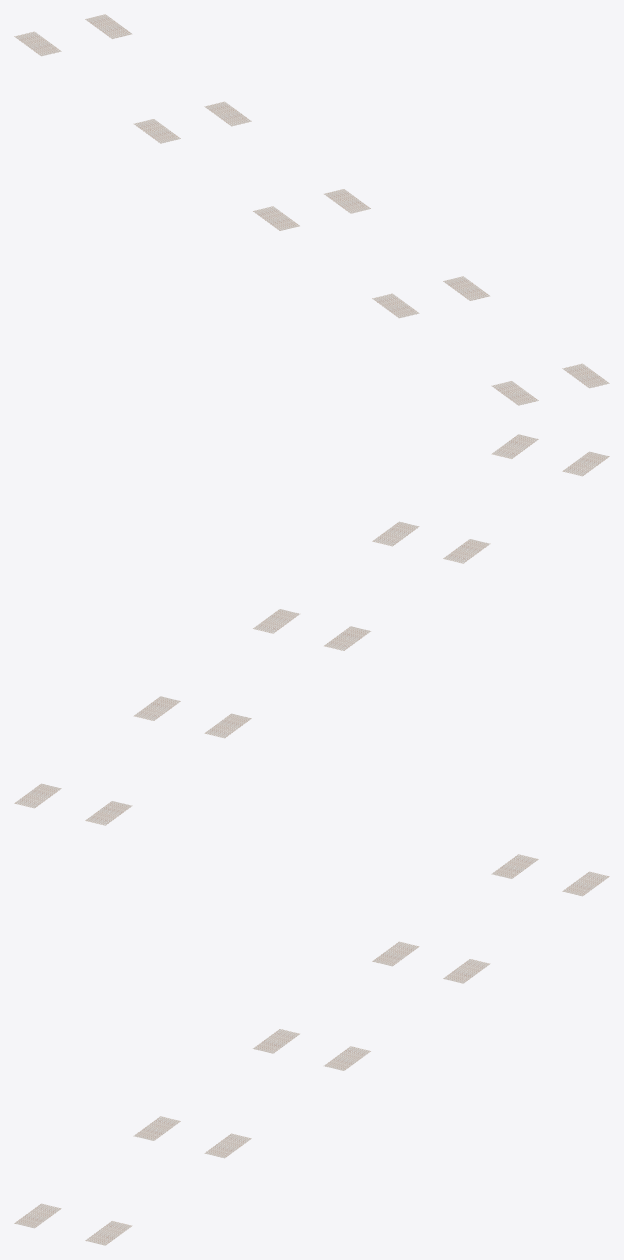
3 views of the same model, one above another, from view 1: azimuth 30°, elevation 25°; view 2: azimuth 150°, elevation 25°; view 3: azimuth 330°, elevation 25° (orthographic).
Visible parts, largest first — view 1: Object_2; view 2: Object_2; view 3: Object_2.
Part boxes in pixels (x1=…): Object_2: x1=14, y1=14, x2=609, y2=405; Object_2: x1=14, y1=434, x2=609, y2=825; Object_2: x1=14, y1=854, x2=609, y2=1245.
Size of the model in its own units: 310 by 0 by 2960.
